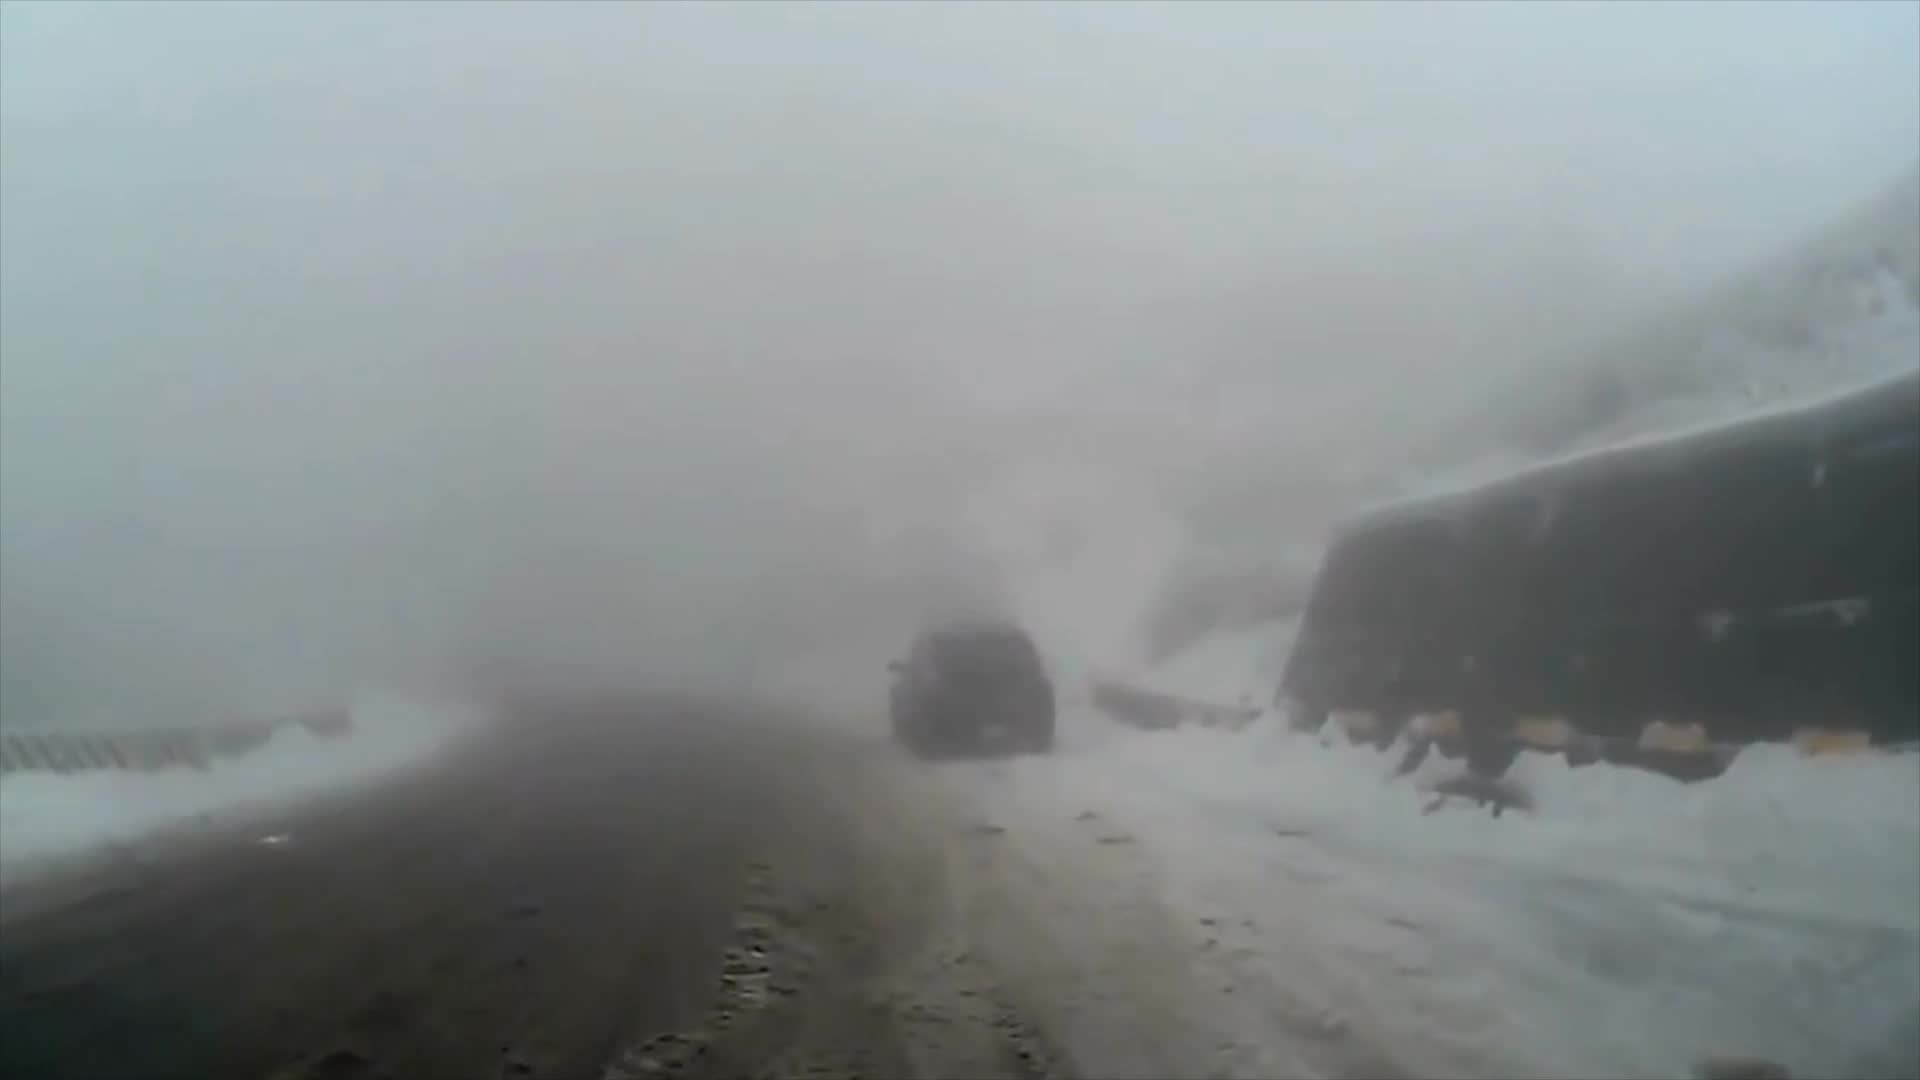vehicle: (880, 613, 1052, 758)
